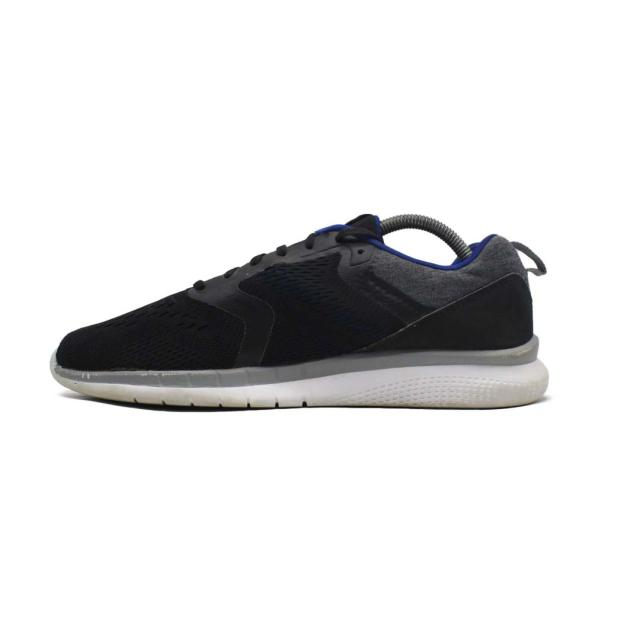heel: (472, 234, 547, 349)
midsole: (47, 341, 549, 406)
uppersole: (54, 210, 491, 370)
